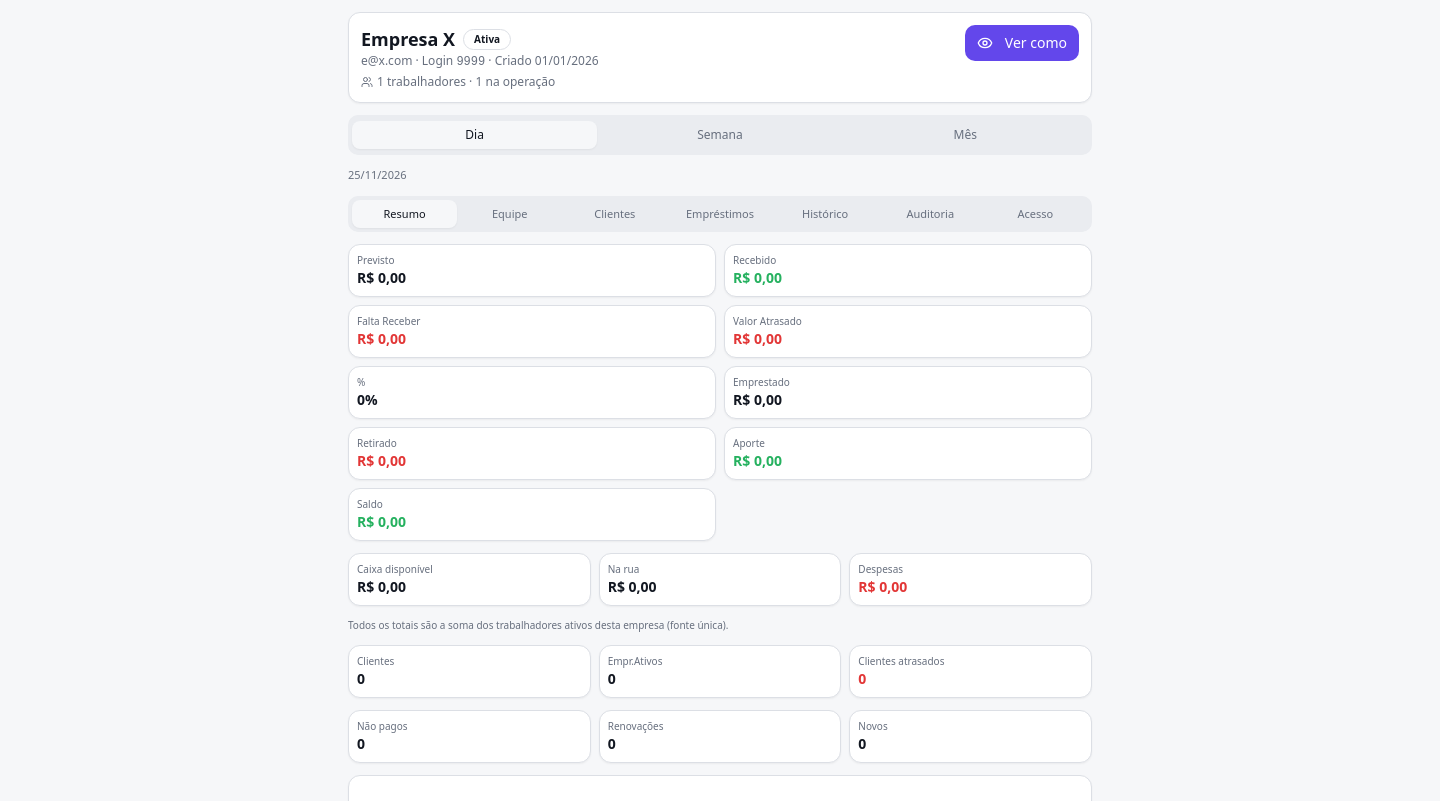
botão Editar ao lado do nome do trabalhador › abre o modal de edição direto na lista do Super Admin e não sobrescreve a observação não lida
Later steps or results of the test are not shown.
Press the mouse on the tab "Equipe": (510, 214) x1=457 y1=200 x2=562 y2=228
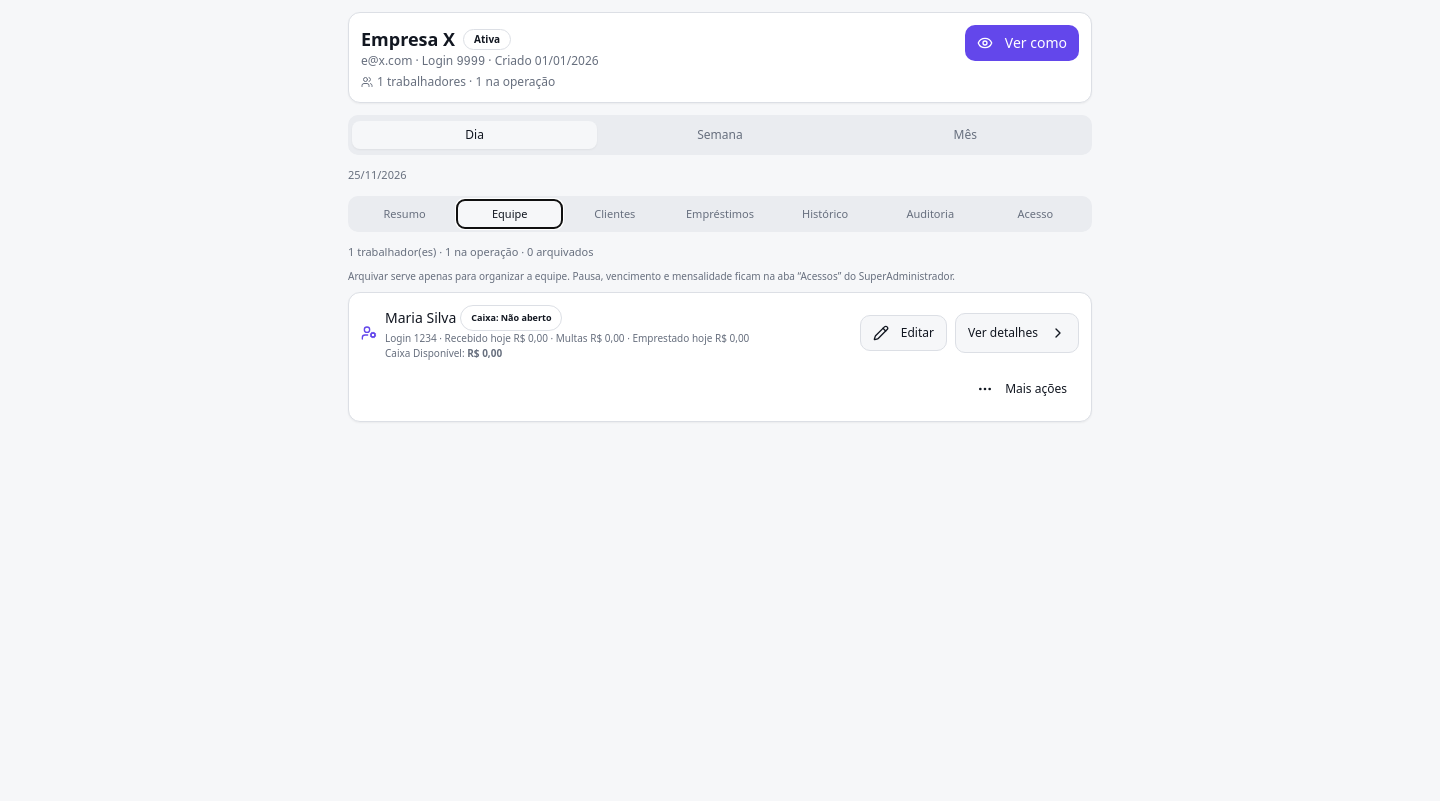
Click the tab "Equipe": (510, 214) x1=457 y1=200 x2=562 y2=228
Expected: the text "Maria Silva" is shown, x1=385 y1=308 x2=456 y2=326
Click the button with aria-label "Editar Maria Silva": (903, 332) x1=860 y1=314 x2=947 y2=350
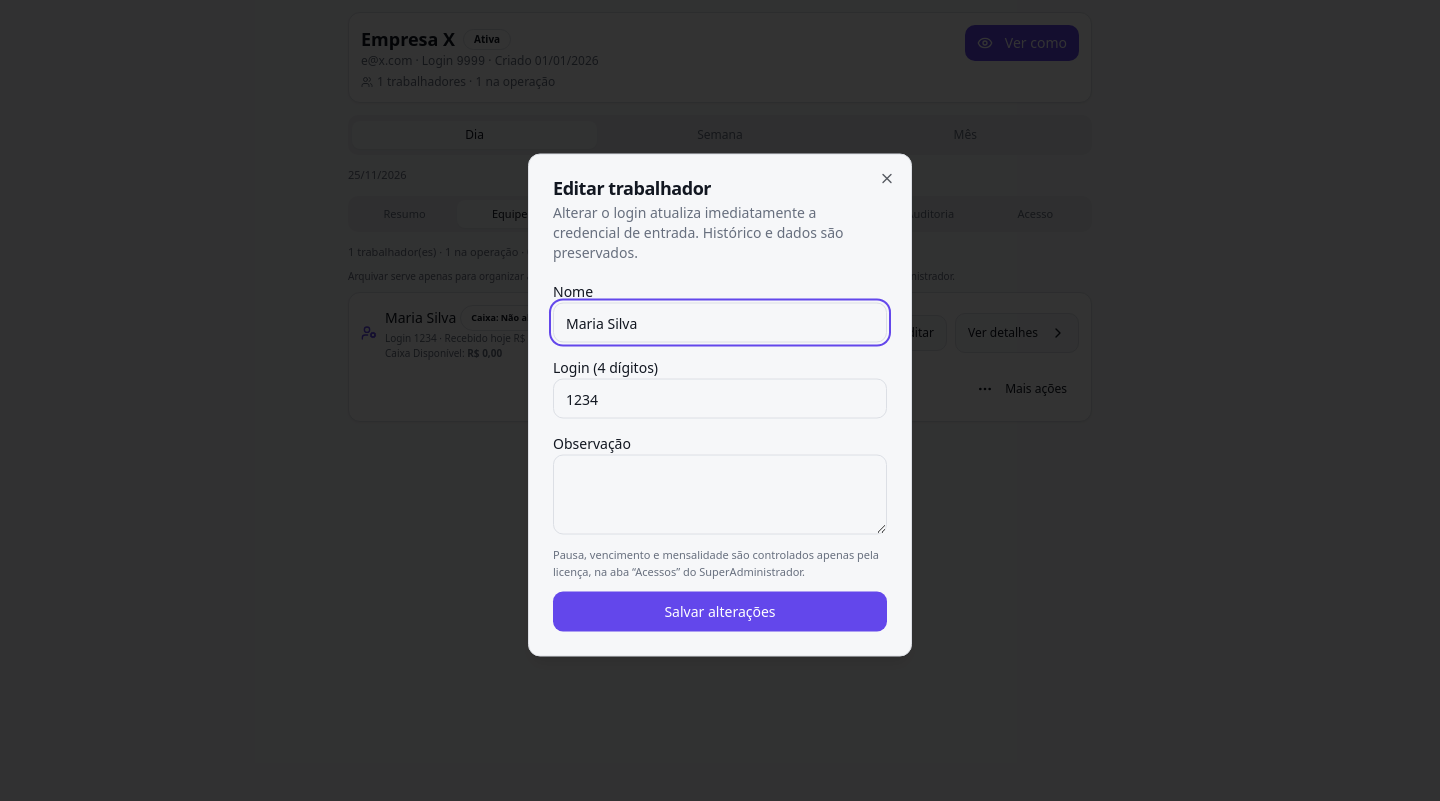
Expected: the field labelled "Nome" holds "Maria Silva", x1=553 y1=302 x2=887 y2=342
Expected: the field labelled "Login (4 dígitos)" holds "1234", x1=553 y1=378 x2=887 y2=418
